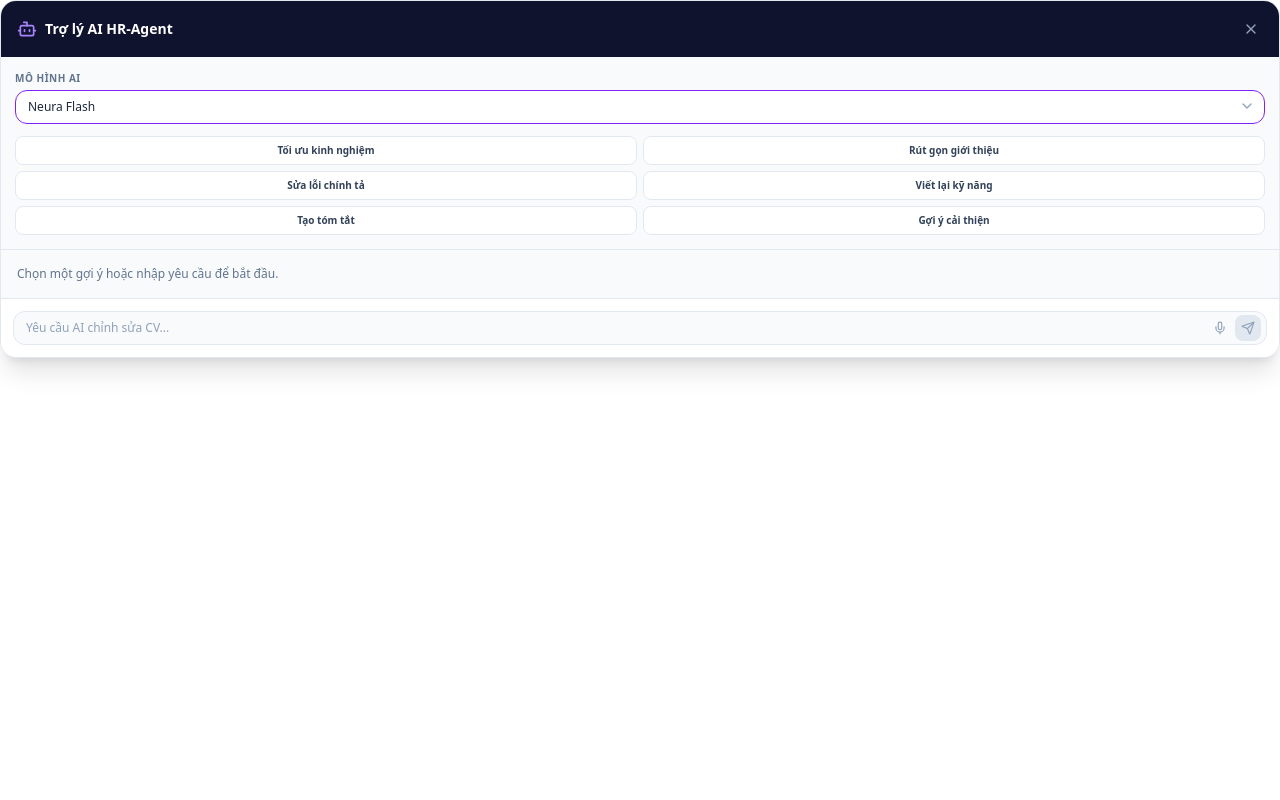
Test: ChatPanel — giao diện trợ lý AI › shows an assistant error instead of claiming malformed operations were applied
Click the button "Tạo tóm tắt": click(326, 220) [15,206,637,235]
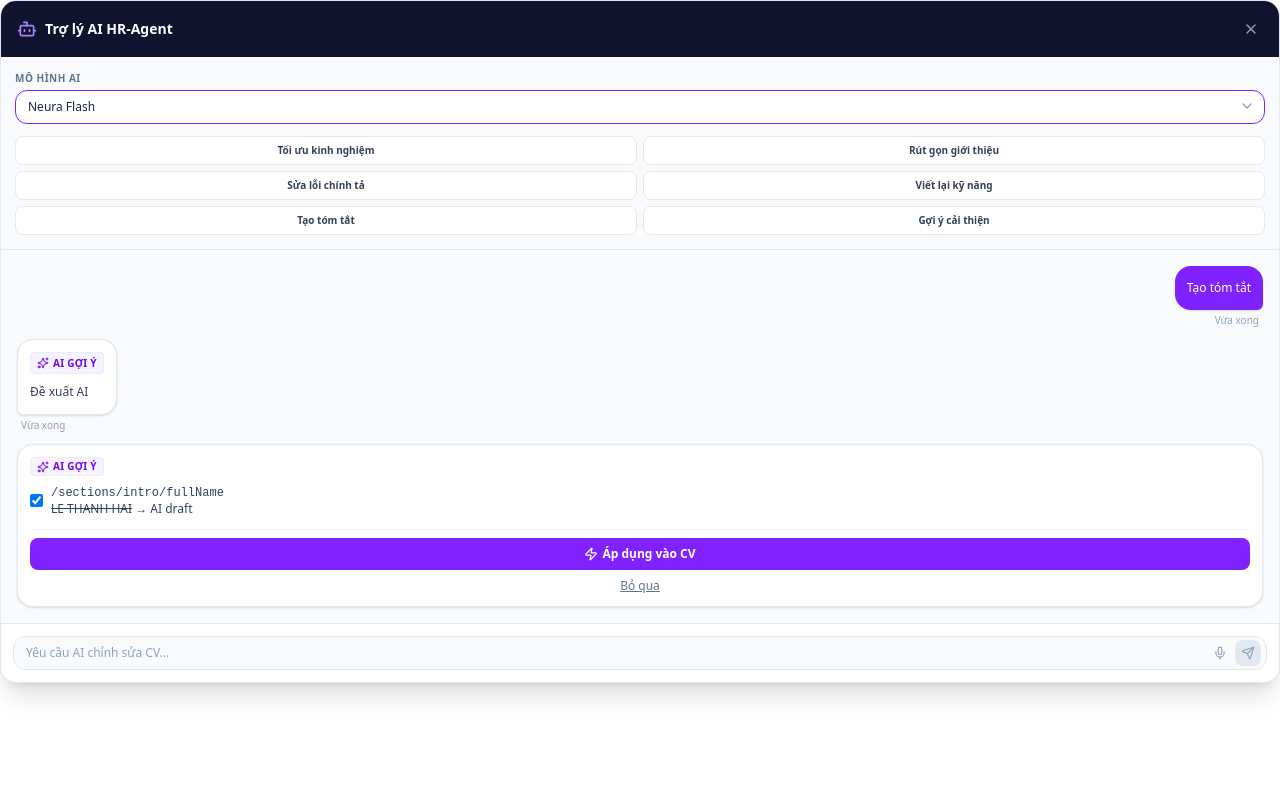
Click the button "Áp dụng vào CV": click(640, 554) [30,538,1250,570]
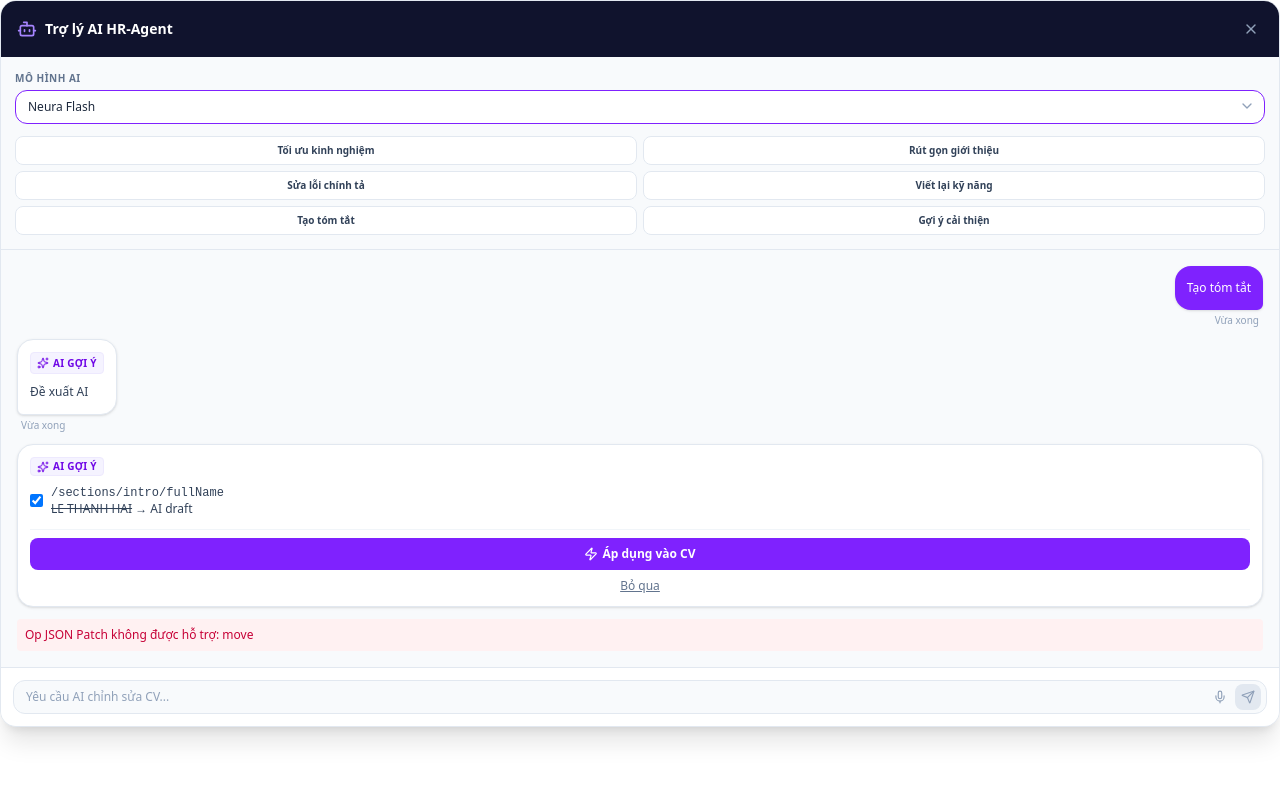
Expected: the message shows "Op JSON Patch không được hỗ trợ", [25,626,253,643]
